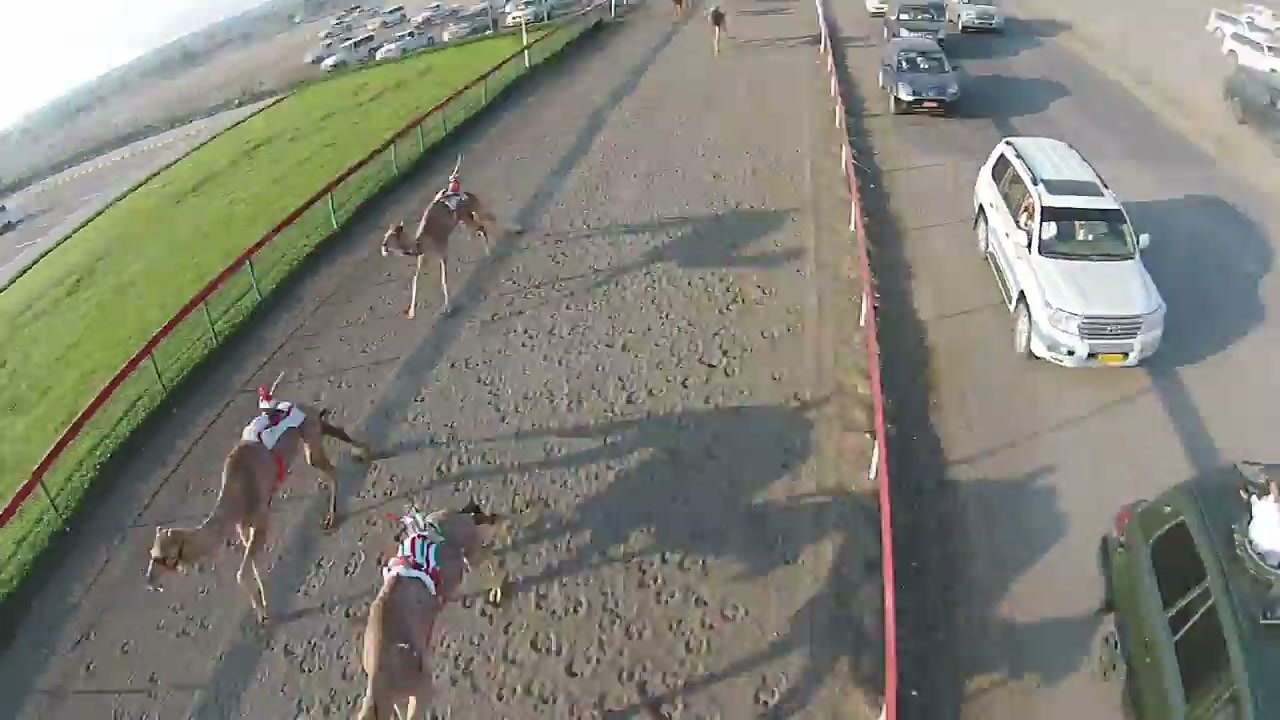animal_foot_print: (249, 253, 500, 719), (446, 315, 704, 708)
